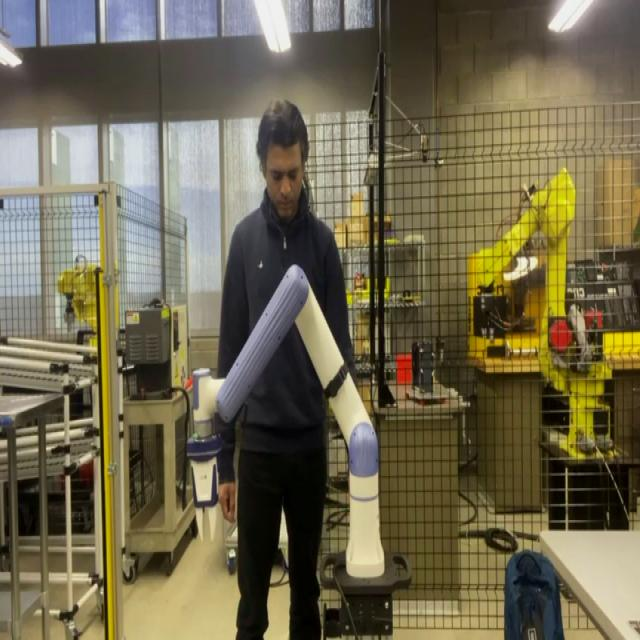robot: (176, 254, 394, 582)
